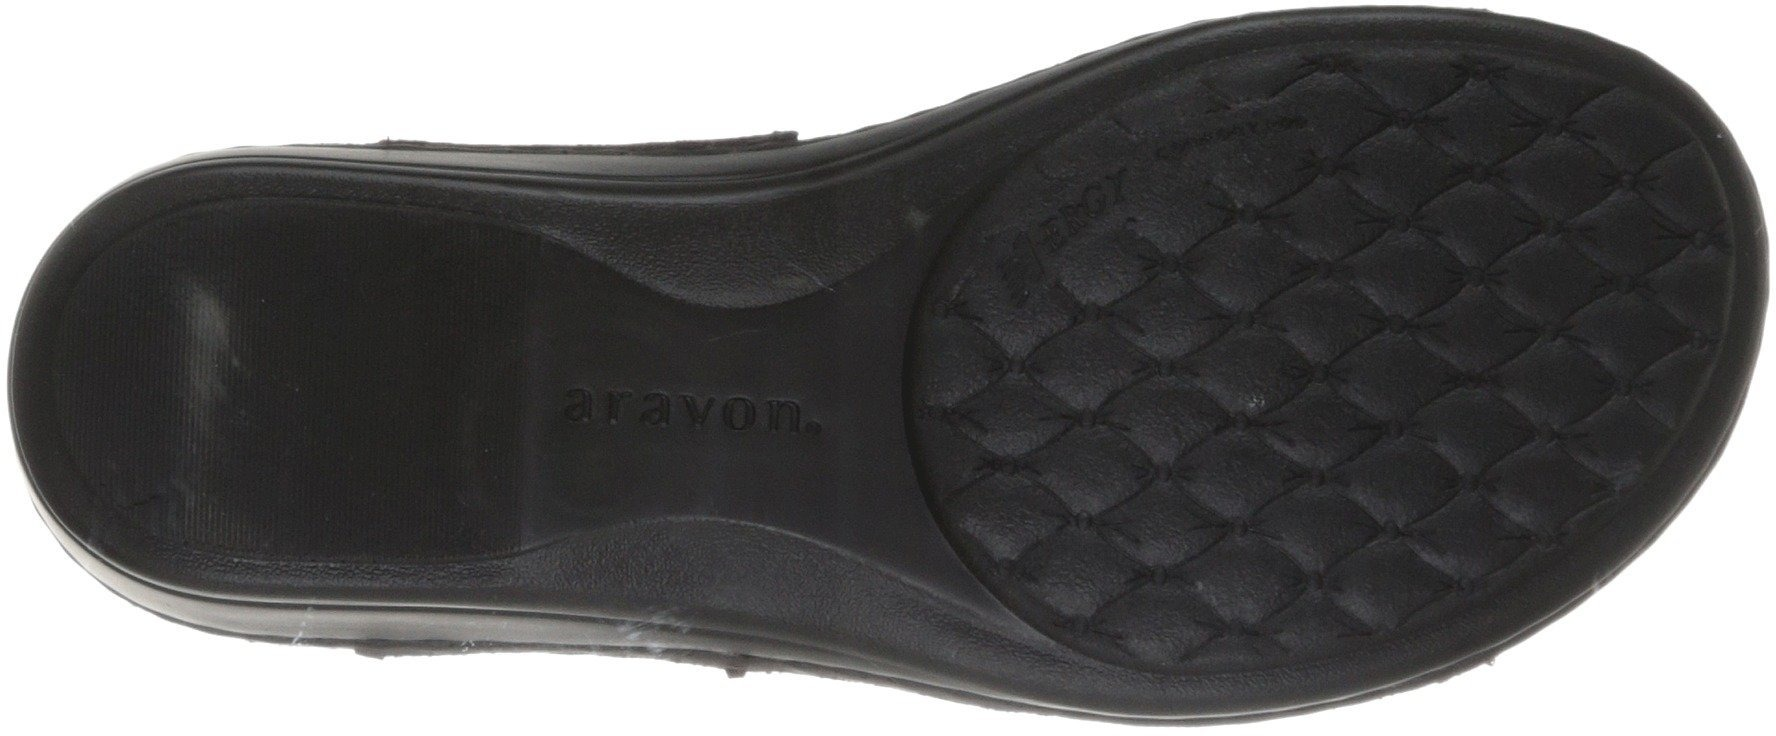circle: (1184, 243, 1441, 483), (1438, 108, 1672, 323), (676, 356, 808, 471)
line: (1184, 243, 1441, 483), (1438, 108, 1672, 323)
other: (178, 225, 516, 538)
quad: (1030, 151, 1508, 598), (1180, 80, 1625, 499), (1184, 243, 1441, 483), (1438, 108, 1672, 323)
text: (676, 356, 808, 471), (1019, 174, 1155, 262), (561, 356, 674, 460), (1189, 113, 1286, 164)
